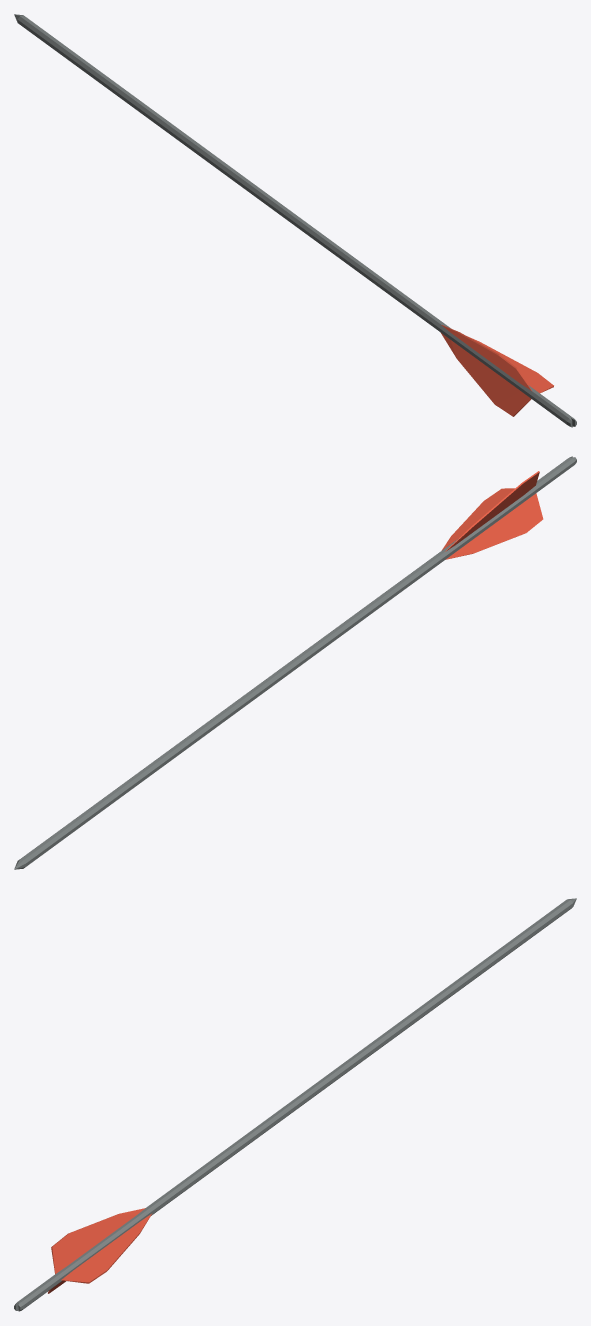
File: Arrow.glb
The picture shows the model from 3 angles, top to bottom: view 1: azimuth 30°, elevation 25°; view 2: azimuth 150°, elevation 25°; view 3: azimuth 330°, elevation 25°; orthographic projection.
Visible parts, largest first — view 1: Arrow; view 2: Arrow; view 3: Arrow.
Boxes of the visible parts, x1,y1,x2,y2 form: Arrow: [14, 14, 576, 427]; Arrow: [14, 456, 576, 869]; Arrow: [14, 898, 576, 1311].
Size of the model in its own units: 0.0637 by 0.0703 by 1.44.
Materials: 1 (1 with a texture image).
